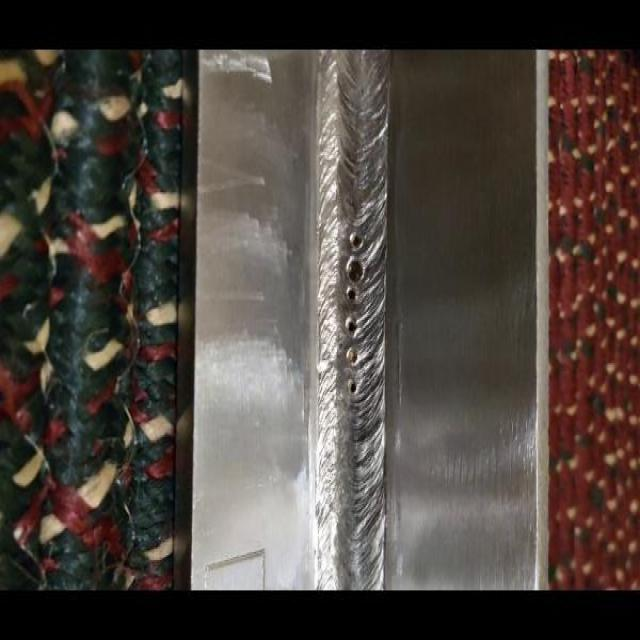Welding Line: (316, 53, 386, 590)
Workpiece: (185, 51, 551, 588)
porosity: (343, 232, 364, 394)
